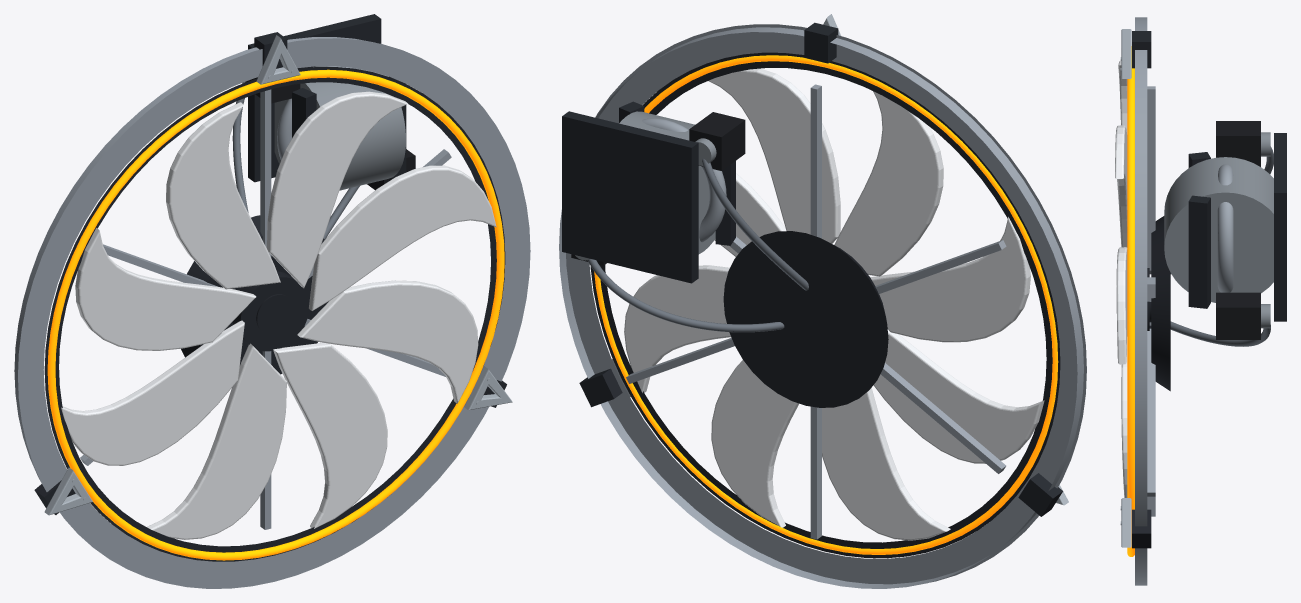
The model's file is req-1792123704566-djq7-v2.glb.
The picture shows the model from 3 angles, left to right: view 1: azimuth 30°, elevation 25°; view 2: azimuth 150°, elevation 25°; view 3: azimuth 270°, elevation 25°; orthographic projection. The views are drawn at different scales.
Parts seen in each view (by area): view 1: BezelFrontFlange, LaserCalibrationRing, ReflectorPetal_2, ReflectorPetal_1, ReflectorPetal_6, ReflectorPetal_5, GeneratedReflector3D, ReflectorPetal_7, ReflectorPetal_3, ReflectorPetal_4, ReflectorPetal_8, GraduationTrack (+6 smaller); view 2: GeneratedReflector3D, BezelFrontFlange, GimbalInterfacePylonPlate, GraduationTrack, ReflectorPetal_3, ReflectorPetal_4, ReflectorPetal_2, ReflectorPetal_6, OuterBezelRim, ReflectorPetal_5, ReflectorPetal_7, LaserCalibrationRing (+6 smaller); view 3: GeneratedReflector3D, PrimaryGimbalDrum, OuterBezelRim, LaserCalibrationRing, GimbalInterfacePylonPlate, AzimuthStepperMotor, ElevationStepperMotor, ReflectorPetal_1, ReflectorPetal_2, ReflectorPetal_8, BraidedPowerConduit_Beta, ReflectorPetal_3.
Boxes of the visible parts, x1,y1,x2,y2 form: BezelFrontFlange: (18,38,530,588); LaserCalibrationRing: (47,69,504,560); ReflectorPetal_2: (266,91,407,288); ReflectorPetal_1: (309,165,496,310); ReflectorPetal_6: (147,343,286,539); ReflectorPetal_5: (61,320,244,465); GeneratedReflector3D: (34,32,512,529); ReflectorPetal_7: (273,342,387,528); ReflectorPetal_3: (166,102,280,289); ReflectorPetal_4: (75,228,256,350); ReflectorPetal_8: (297,280,478,403); GraduationTrack: (44,67,505,561); GeneratedReflector3D: (575,14,1068,539); BezelFrontFlange: (566,24,1086,584); GimbalInterfacePylonPlate: (562,111,698,283); GraduationTrack: (590,52,1060,558); ReflectorPetal_3: (834,91,943,276); ReflectorPetal_4: (870,217,1030,342); ReflectorPetal_2: (708,68,840,243); ReflectorPetal_6: (822,388,950,540); OuterBezelRim: (559,27,1083,588); ReflectorPetal_5: (873,329,1044,463); ReflectorPetal_7: (711,360,798,527); LaserCalibrationRing: (594,55,1058,554); GeneratedReflector3D: (1120,29,1270,548); PrimaryGimbalDrum: (1164,157,1273,302); OuterBezelRim: (1135,17,1147,585); LaserCalibrationRing: (1127,46,1134,556); GimbalInterfacePylonPlate: (1274,133,1286,321); AzimuthStepperMotor: (1216,292,1260,339); ElevationStepperMotor: (1216,121,1260,166); ReflectorPetal_1: (1116,247,1127,364); ReflectorPetal_2: (1115,125,1127,247); ReflectorPetal_8: (1121,337,1127,497); BraidedPowerConduit_Beta: (1170,321,1270,346); ReflectorPetal_3: (1118,60,1127,134).
Bounding box in the file's own units: 1.78 × 1.82 × 0.5324.
